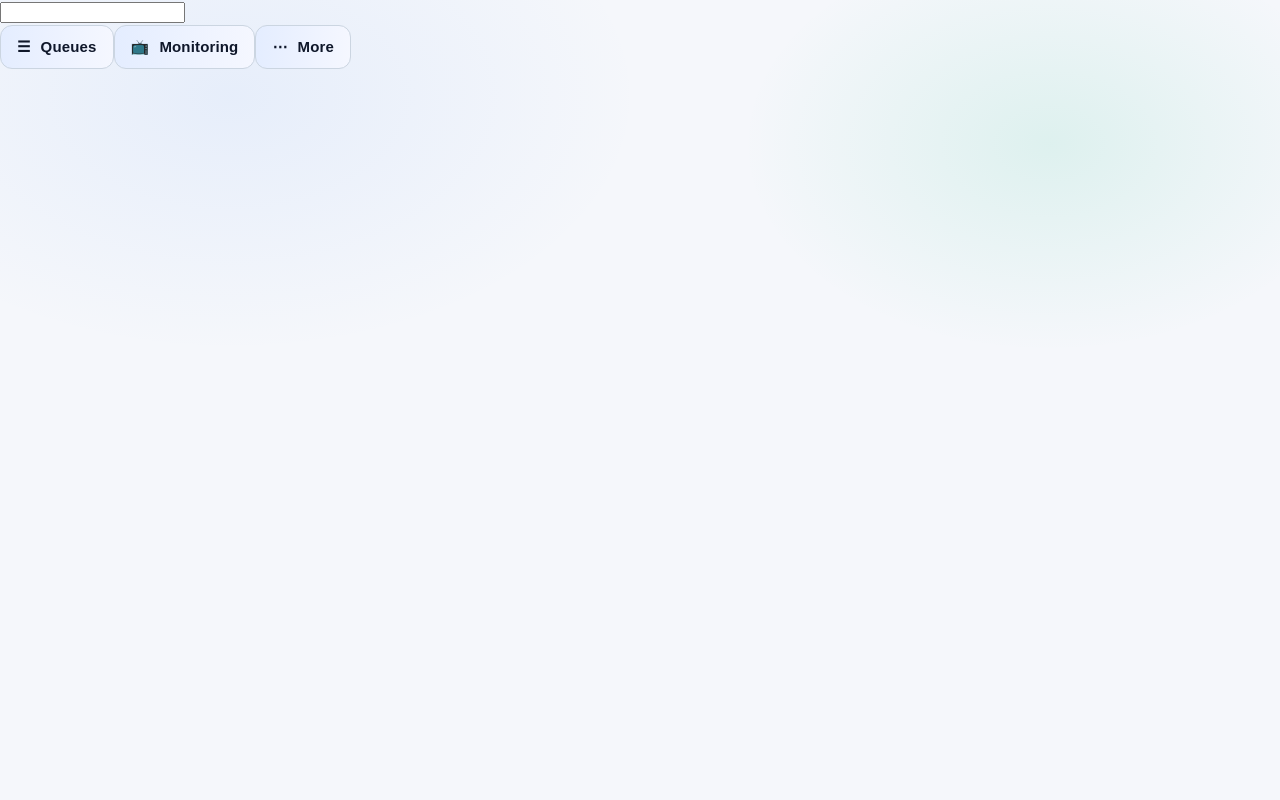
Test: PhoneTabBar › lists the other areas in the More sheet and labels the desktop-only ones
Click the button "⋯ More".
click(303, 47)  # box [255,25,351,69]
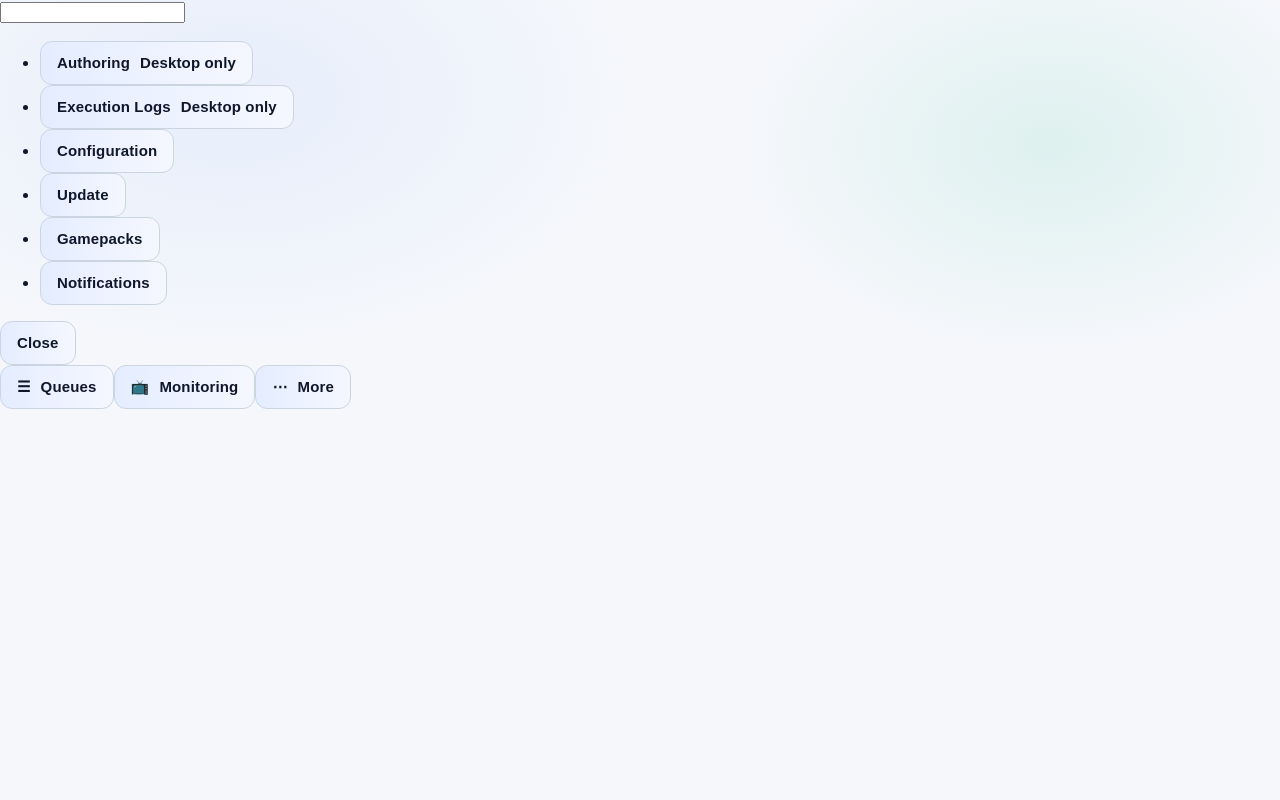
Result: the button "Configuration" is shown at [40,129,174,173]
Result: the button "Update" is shown
Result: the button "Authoring Desktop only" is shown at [40,41,253,85]
Click the button "Update".
click(83, 195)  # box [40,173,126,217]
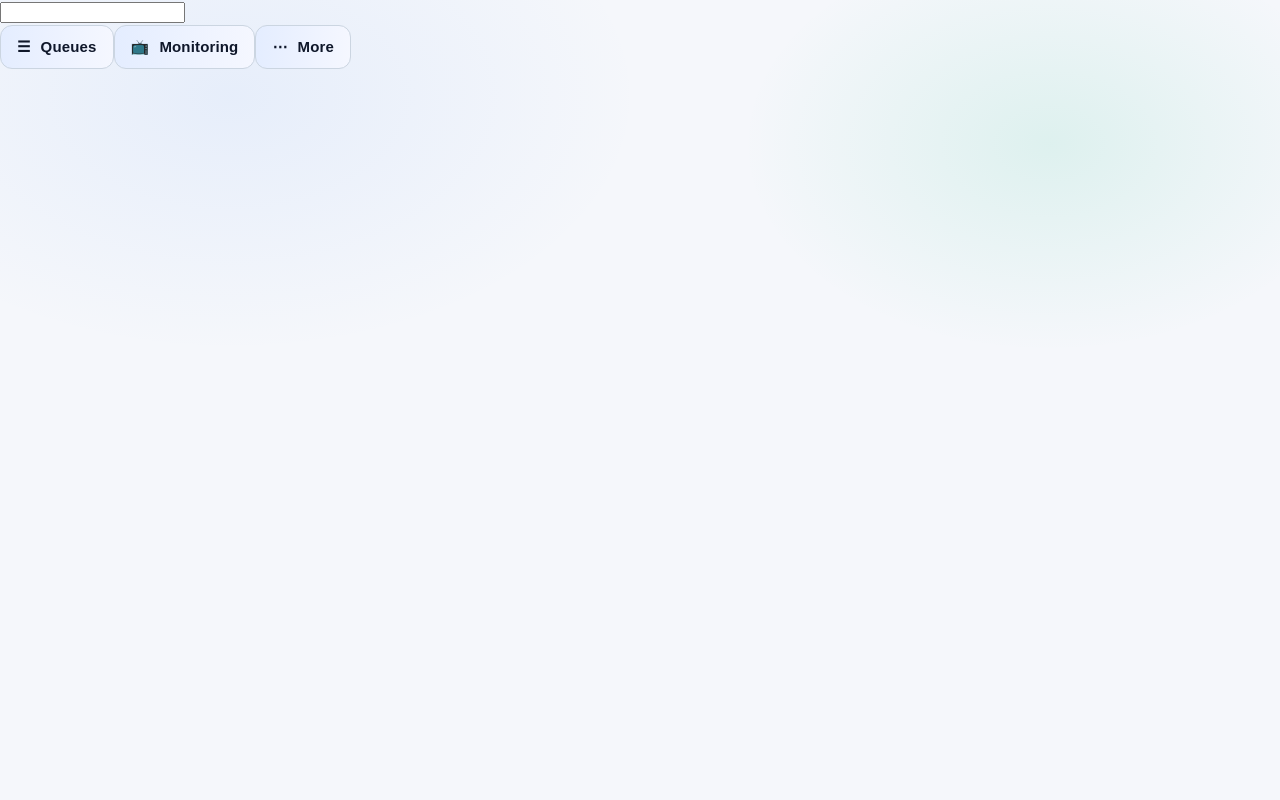
Result: the dialog is gone
